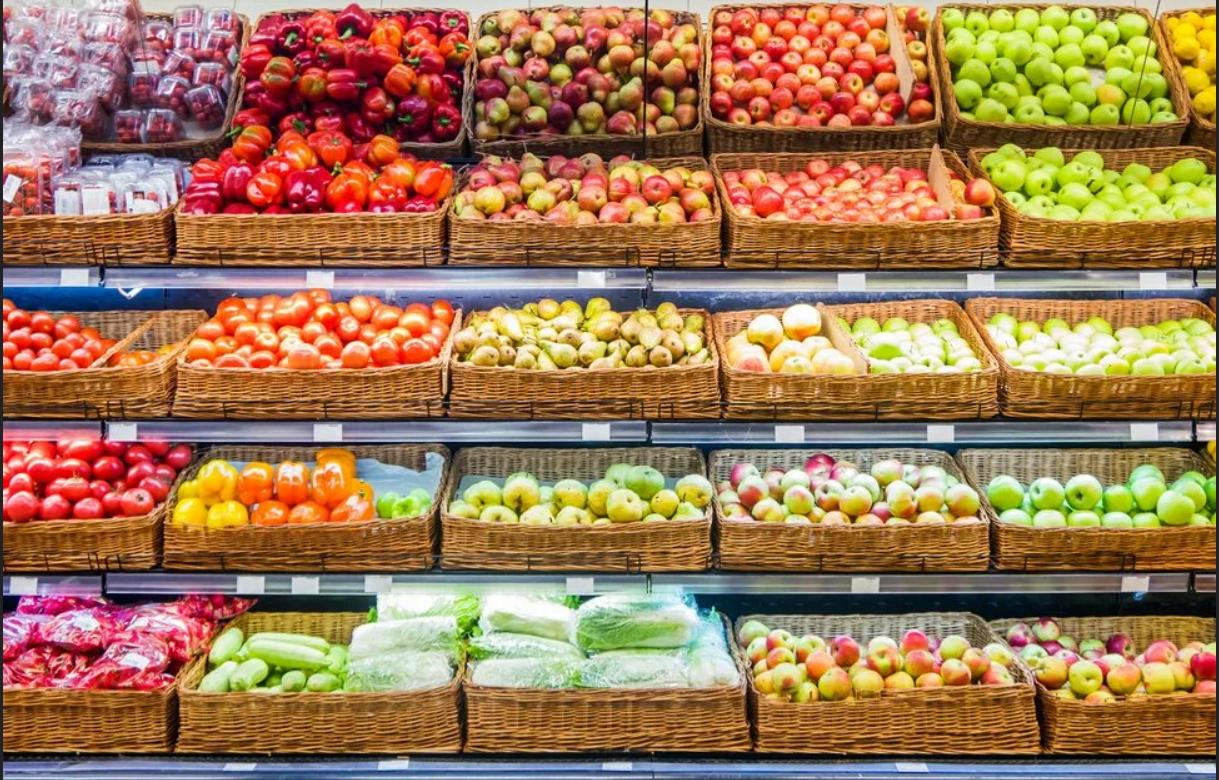green apple: (982, 140, 1219, 237), (452, 466, 714, 543), (978, 308, 1219, 389), (980, 464, 1219, 533), (844, 310, 987, 387)
pear: (455, 297, 711, 391)
red apple: (457, 150, 720, 249), (734, 616, 1023, 706), (716, 456, 980, 533), (722, 159, 996, 231), (1007, 617, 1219, 709), (717, 305, 854, 383)
sweet pepper: (186, 130, 450, 240), (174, 452, 376, 539), (377, 486, 439, 528)
tomato: (194, 286, 453, 380), (3, 434, 191, 532), (4, 298, 174, 374)
